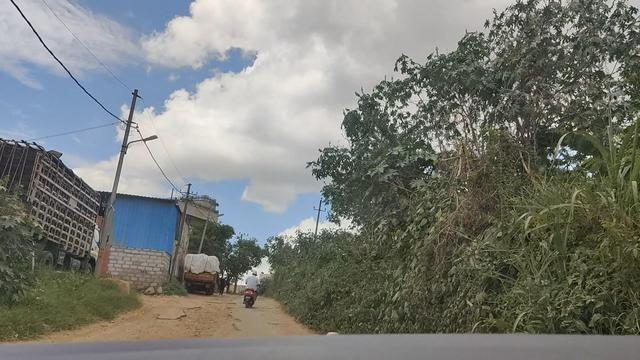HMV: (182, 251, 219, 295)
RoadDamages: (150, 302, 249, 335)
